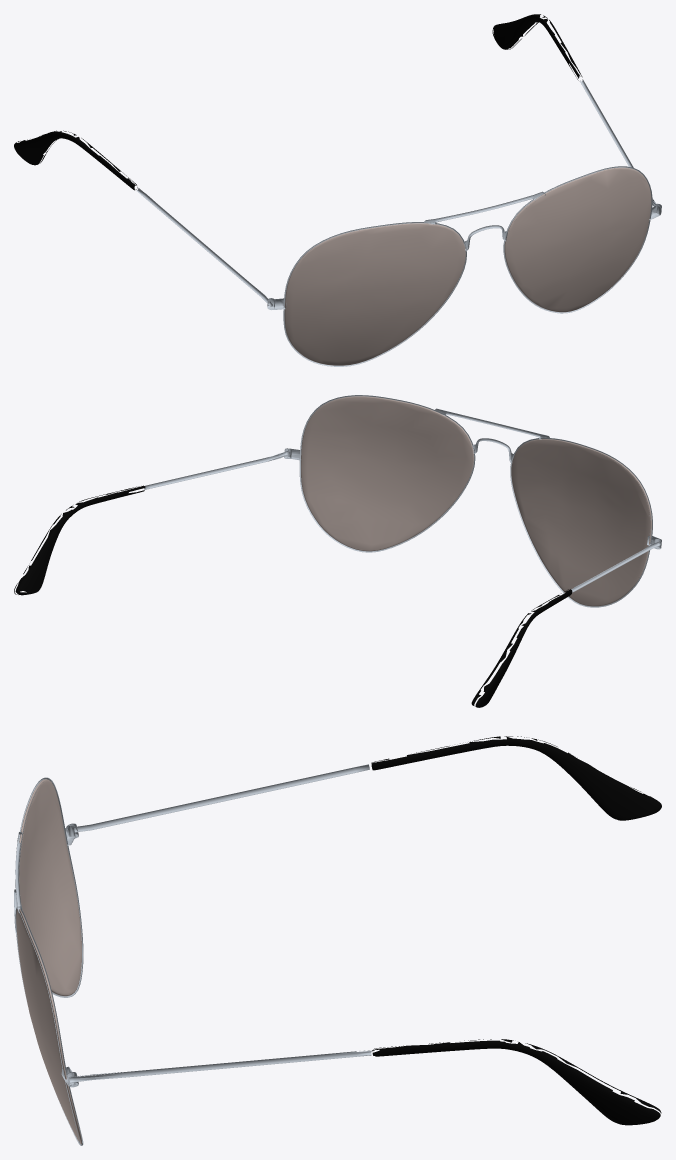
The picture shows the model from 3 angles, top to bottom: view 1: azimuth 30°, elevation 25°; view 2: azimuth 150°, elevation 25°; view 3: azimuth 270°, elevation 25°; orthographic projection. The views are drawn at different scales.
Visible parts, largest first — view 1: lens, Glasses1, frameEnd; view 2: lens, Glasses1, frameEnd; view 3: lens, frameEnd, Glasses1.
Part boxes in pixels (x1,y1,x2,y2): lens: [284, 167, 651, 365]; Glasses1: [136, 79, 661, 366]; frameEnd: [14, 14, 582, 190]; lens: [301, 396, 651, 606]; Glasses1: [144, 395, 661, 607]; frameEnd: [14, 485, 572, 707]; lens: [16, 779, 81, 1143]; frameEnd: [371, 736, 661, 1125]; Glasses1: [14, 764, 374, 1145].
Bounding box in the file's own units: 121 × 35.61 × 105.
